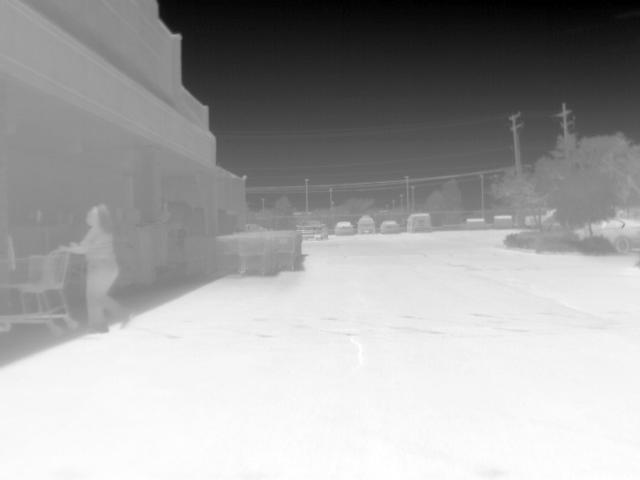car: (592, 218, 640, 252), (296, 218, 330, 241), (540, 206, 567, 232), (406, 211, 433, 233), (357, 215, 379, 235), (333, 221, 356, 238), (380, 220, 402, 236)
person: (59, 202, 135, 334)
